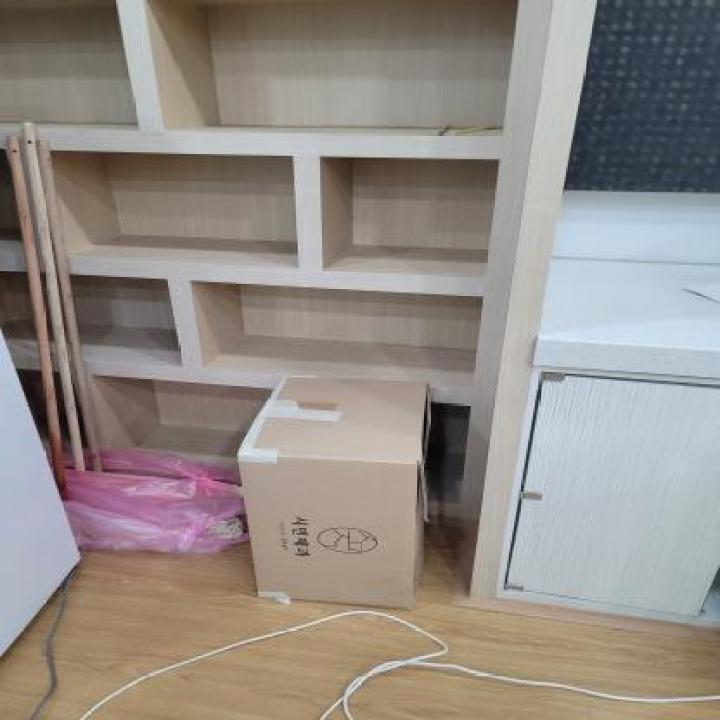box: (225, 360, 453, 623)
